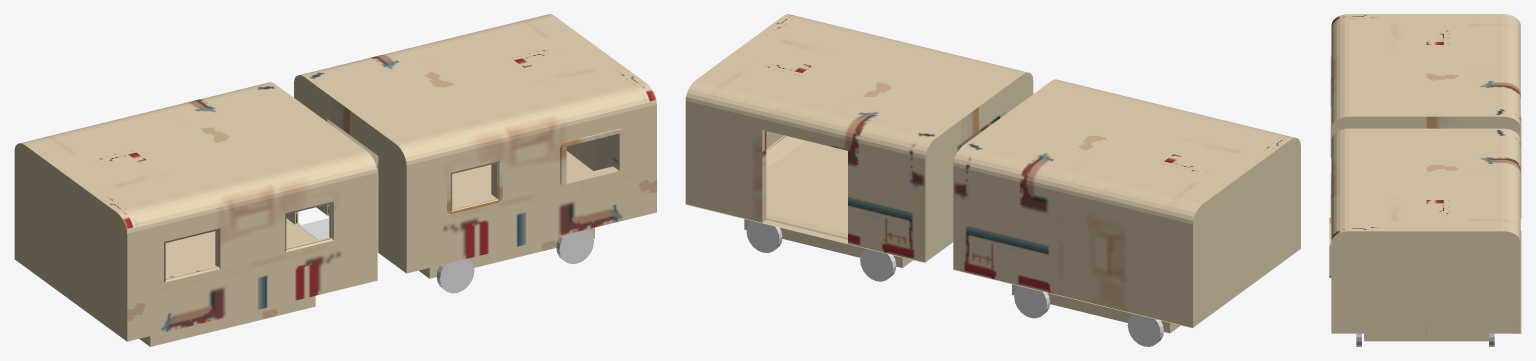
Rendered from Train.fbx.
3 views of the same model, side by side, from view 1: azimuth 30°, elevation 25°; view 2: azimuth 150°, elevation 25°; view 3: azimuth 270°, elevation 25° (orthographic). The views are drawn at different scales.
Visible parts, largest first — view 1: WallWindows.001, WallWindows, BodyWall.001, BodyWall, Body.001, Body, Window2, Window, Wheel, Wheel.001; view 2: BodyWall.001, BodyWall, WallWindows.001, WallWindows, Body, Body.001, Wheel.002, Wheel.005, Wheel.003, Wheel.004; view 3: WallWindows, BodyWall, WallWindows.001, BodyWall.001, Body, Body.001, Window2.
Boxes of the visible parts, left/top/right/bottom form: WallWindows.001: left=70, top=117, right=377, bottom=341; WallWindows: left=350, top=49, right=656, bottom=273; BodyWall.001: left=14, top=82, right=320, bottom=299; BodyWall: left=294, top=14, right=599, bottom=215; Body.001: left=139, top=218, right=317, bottom=346; Body: left=328, top=151, right=594, bottom=278; Window2: left=560, top=129, right=624, bottom=187; Window: left=447, top=159, right=502, bottom=213; Wheel: left=556, top=229, right=593, bottom=264; Wheel.001: left=436, top=258, right=474, bottom=293; BodyWall.001: left=953, top=113, right=1246, bottom=327; BodyWall: left=685, top=48, right=978, bottom=262; WallWindows.001: left=1007, top=79, right=1300, bottom=287; WallWindows: left=739, top=14, right=1033, bottom=151; Body: left=685, top=135, right=924, bottom=267; Body.001: left=953, top=269, right=1192, bottom=333; Wheel.002: left=860, top=249, right=896, bottom=281; Wheel.005: left=1127, top=314, right=1163, bottom=346; Wheel.003: left=746, top=220, right=782, bottom=252; Wheel.004: left=1014, top=286, right=1049, bottom=318; WallWindows: left=1330, top=128, right=1426, bottom=333; BodyWall: left=1426, top=128, right=1520, bottom=333; WallWindows.001: left=1330, top=14, right=1426, bottom=157; BodyWall.001: left=1426, top=14, right=1520, bottom=138; Body: left=1364, top=231, right=1521, bottom=341; Body.001: left=1520, top=116, right=1521, bottom=218; Window2: left=1329, top=217, right=1331, bottom=277.
Bounding box in the file's own units: 1458 × 442 × 545.
2 materials, 2 textured.
